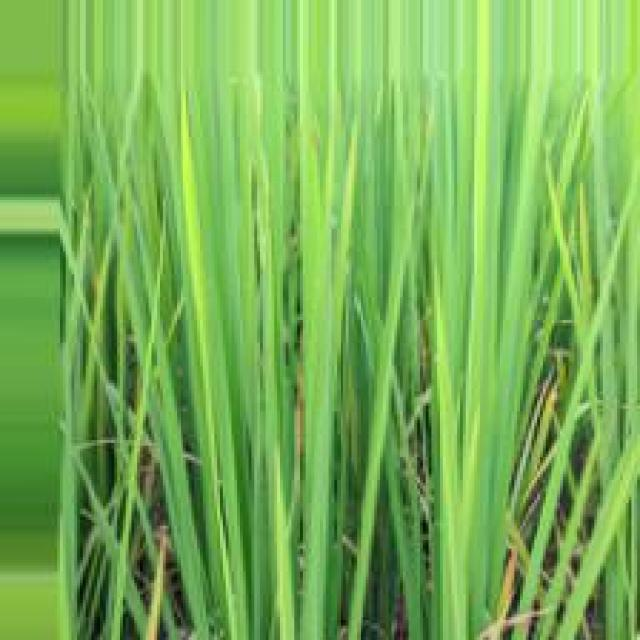HealthyLeaf: (430, 0, 548, 602), (186, 0, 280, 640)
